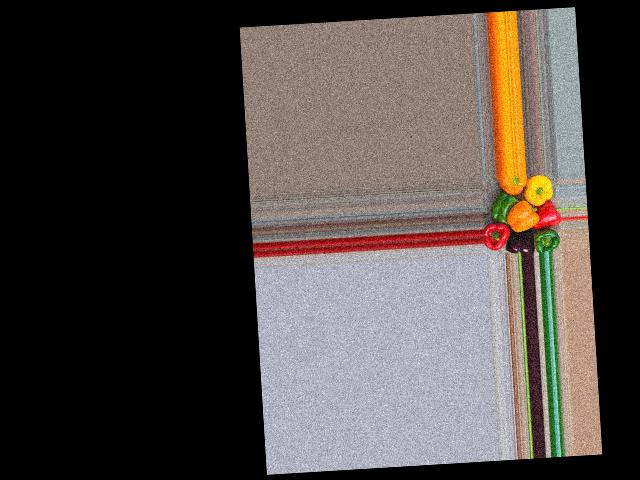bell_pepper: (489, 175, 527, 202)
